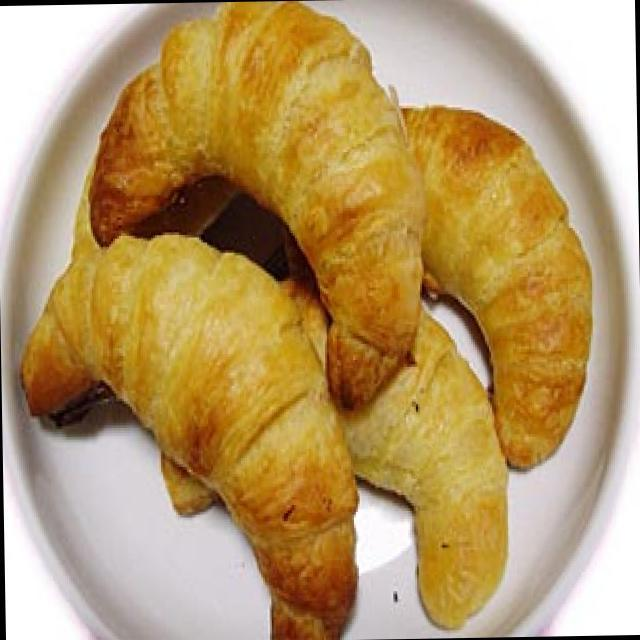Croissant: (72, 0, 445, 404)
